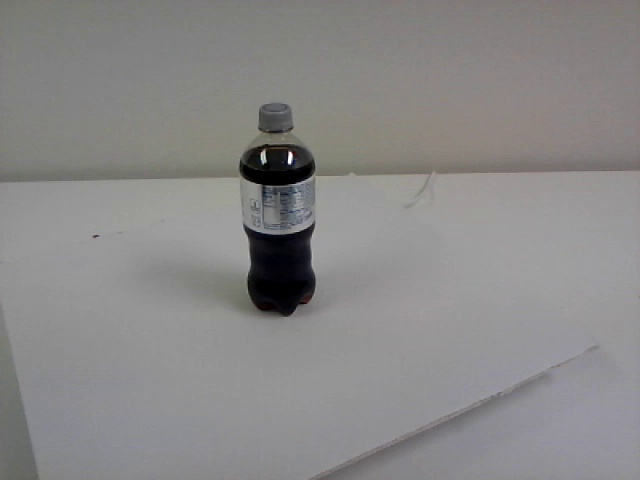botolplastik: (240, 104, 315, 316)
